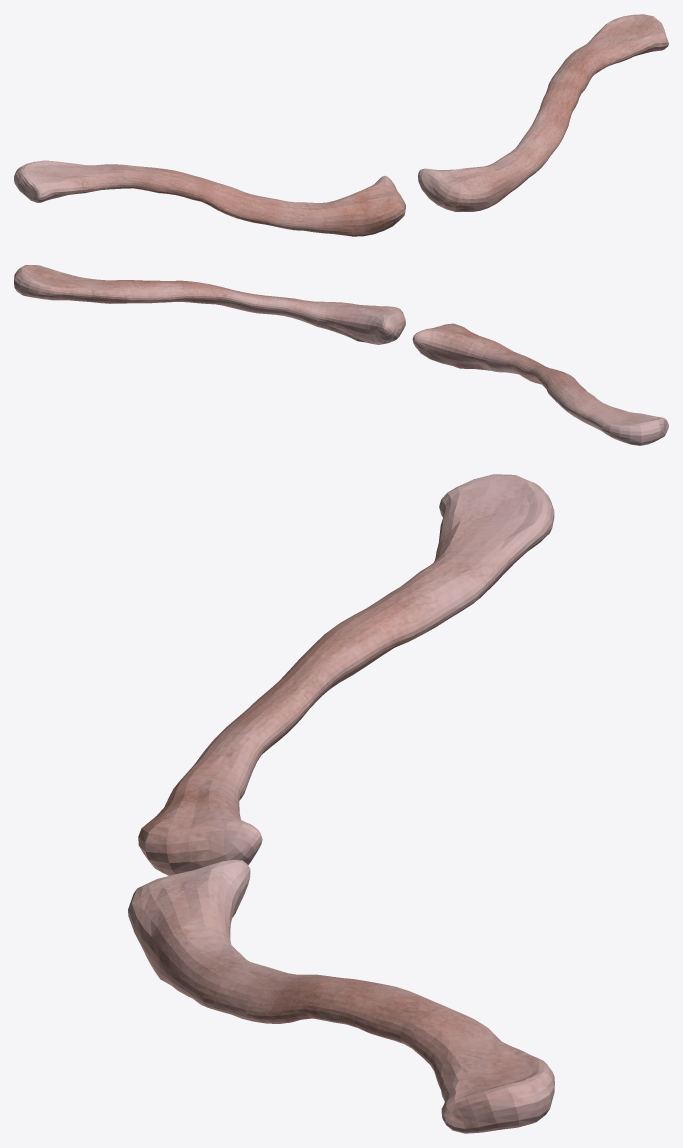
The model's file is SubTool-3-2401016.OBJ.
3 renders of one model, top to bottom at view 1: azimuth 30°, elevation 25°; view 2: azimuth 150°, elevation 25°; view 3: azimuth 270°, elevation 25°, orthographic. The views are drawn at different scales.
Parts seen in each view (by area): view 1: Group1, ZBrush_defualt_group; view 2: ZBrush_defualt_group, Group1; view 3: Group1, ZBrush_defualt_group.
Boxes of the visible parts, x1,y1,x2,y2 form: Group1: [14, 160, 405, 236]; ZBrush_defualt_group: [418, 14, 668, 211]; ZBrush_defualt_group: [14, 265, 405, 344]; Group1: [412, 323, 668, 445]; Group1: [138, 474, 554, 875]; ZBrush_defualt_group: [128, 859, 554, 1133].
Size of the model in its own units: 2.46 by 0.2443 by 0.7064.
1 material, 1 textured.
